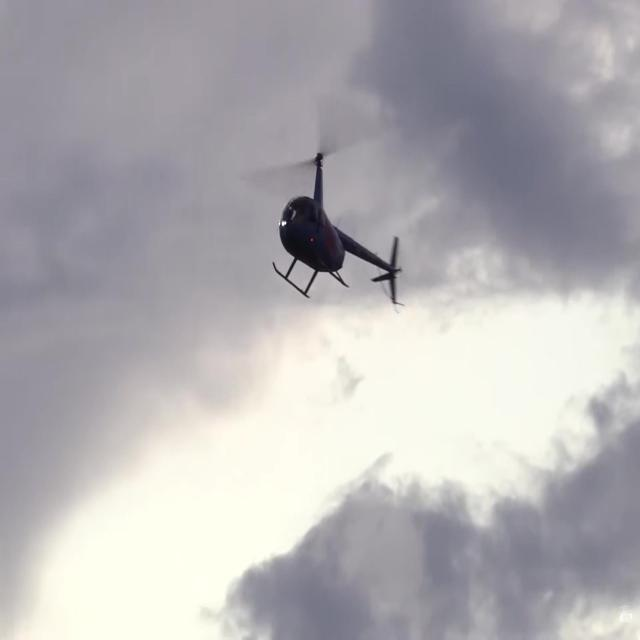CIV_HELO: (273, 152, 402, 306)
